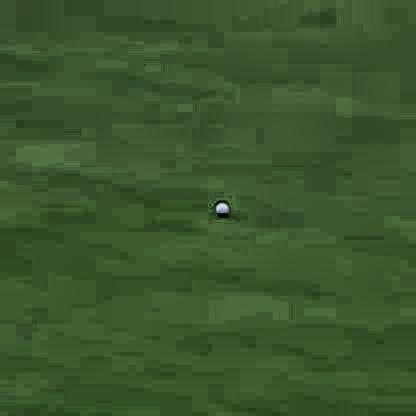golfball: (211, 198, 229, 216)
